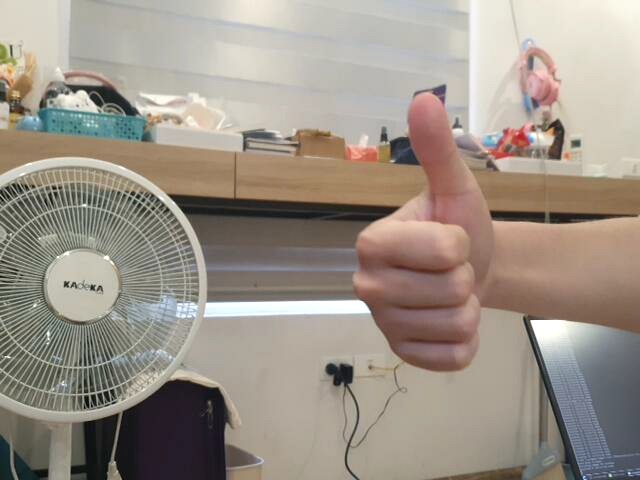ThumbsUp: (346, 89, 496, 378)
